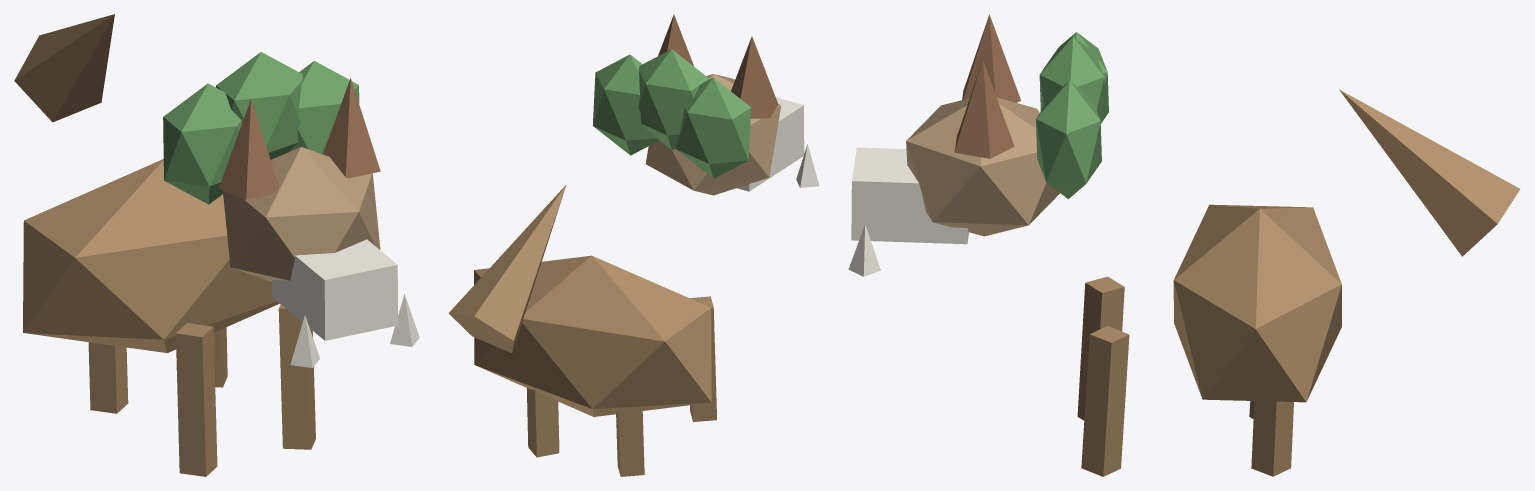
Rendered from npcpose_wolf_idle_08.glb.
The picture shows the model from 3 angles, left to right: view 1: azimuth 30°, elevation 25°; view 2: azimuth 150°, elevation 25°; view 3: azimuth 270°, elevation 25°; orthographic projection. The views are drawn at different scales.
Parts seen in each view (by area): view 1: npcpose; view 2: npcpose; view 3: npcpose.
Boxes of the visible parts, x1,y1,x2,y2 form: npcpose: (14, 14, 419, 476); npcpose: (448, 14, 819, 476); npcpose: (848, 14, 1520, 476).
Bounding box in the file's own units: 0.8872 × 1.24 × 1.85.
